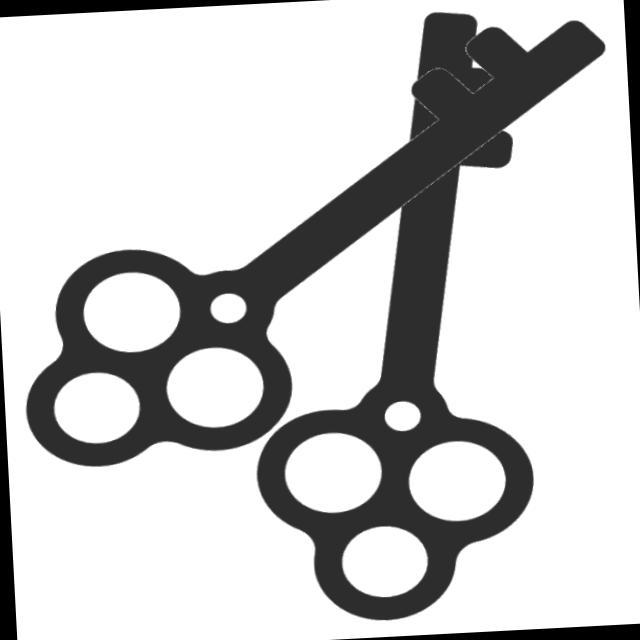key: (1, 12, 637, 479), (221, 1, 561, 631)
